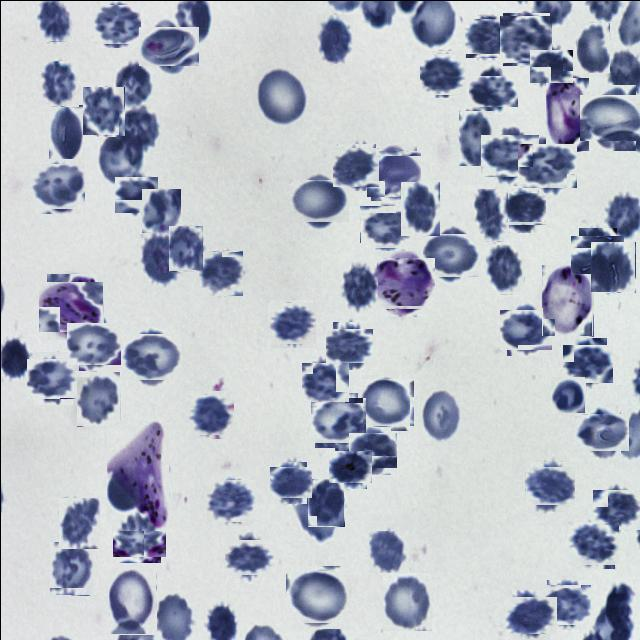difficult: (42, 276, 100, 334)
red blood cell: (288, 568, 346, 626), (254, 65, 307, 128), (108, 567, 156, 634), (584, 89, 640, 145), (124, 329, 178, 384), (382, 572, 432, 631), (359, 376, 411, 428), (520, 140, 572, 192), (292, 174, 343, 226), (425, 229, 476, 280), (31, 160, 82, 211), (96, 128, 142, 184), (484, 129, 534, 180), (368, 148, 418, 198), (144, 20, 194, 70), (312, 394, 362, 444), (500, 14, 550, 64), (49, 541, 94, 595), (76, 371, 120, 426), (362, 202, 411, 251), (68, 318, 116, 368), (115, 511, 163, 559), (420, 388, 461, 444), (590, 241, 635, 292), (28, 354, 76, 401), (568, 519, 616, 566), (578, 408, 624, 455), (502, 306, 548, 352), (594, 486, 640, 532), (208, 477, 254, 523), (574, 231, 620, 277), (268, 300, 314, 346), (400, 181, 439, 235), (58, 497, 99, 548), (48, 104, 84, 162), (82, 86, 124, 135), (564, 340, 610, 384), (458, 110, 494, 166), (340, 260, 378, 313), (526, 463, 570, 508), (94, 1, 138, 46), (544, 581, 588, 626), (420, 51, 464, 96), (186, 392, 231, 436), (198, 250, 242, 295), (302, 359, 346, 404), (485, 244, 524, 294), (508, 592, 552, 636), (139, 234, 179, 281), (473, 188, 508, 241), (334, 145, 377, 188), (118, 108, 159, 152), (307, 478, 344, 526), (316, 14, 352, 63), (466, 16, 508, 58), (228, 536, 270, 578), (351, 429, 393, 471), (40, 60, 78, 106), (328, 324, 369, 366), (141, 188, 180, 232), (368, 530, 408, 572), (576, 22, 609, 72), (472, 70, 512, 111), (114, 61, 150, 106), (168, 224, 203, 270), (116, 174, 156, 214), (502, 188, 542, 228), (531, 46, 569, 85), (36, 0, 72, 41), (331, 447, 368, 485), (272, 464, 308, 501), (550, 376, 585, 413)
ring: (540, 264, 592, 336)
trophozoite: (106, 420, 168, 530), (372, 254, 431, 312), (545, 77, 589, 151)
